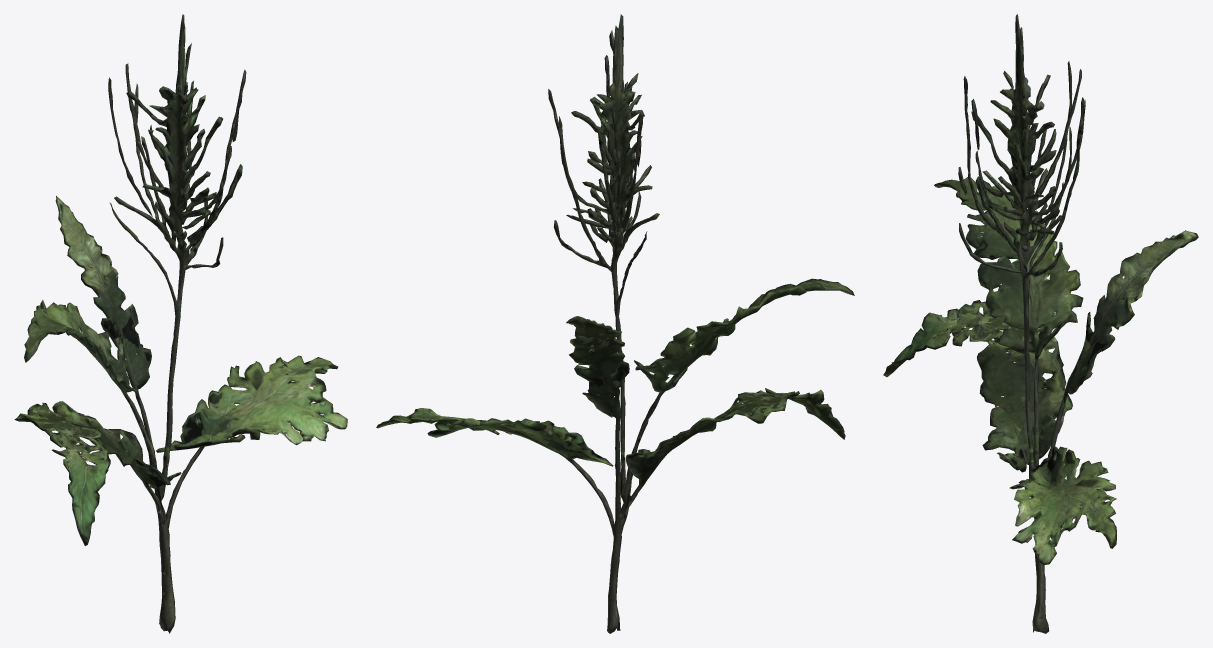
File: dead.glb
The picture shows the model from 3 angles, left to right: view 1: azimuth 30°, elevation 25°; view 2: azimuth 150°, elevation 25°; view 3: azimuth 270°, elevation 25°; orthographic projection. The views are drawn at different scales.
Size of the model in its own units: 1.37 by 2.03 by 0.9346.
Materials: 1 (1 with a texture image).
